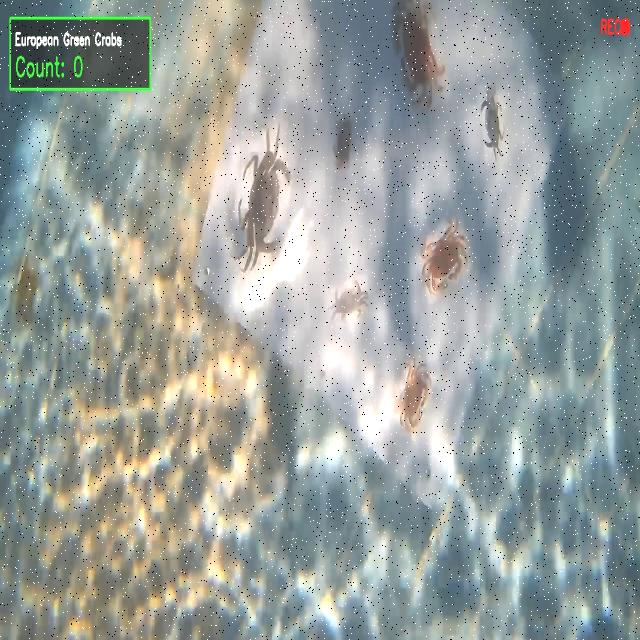European_Green_Crab: (224, 117, 305, 285), (325, 263, 372, 334), (478, 83, 512, 164)
